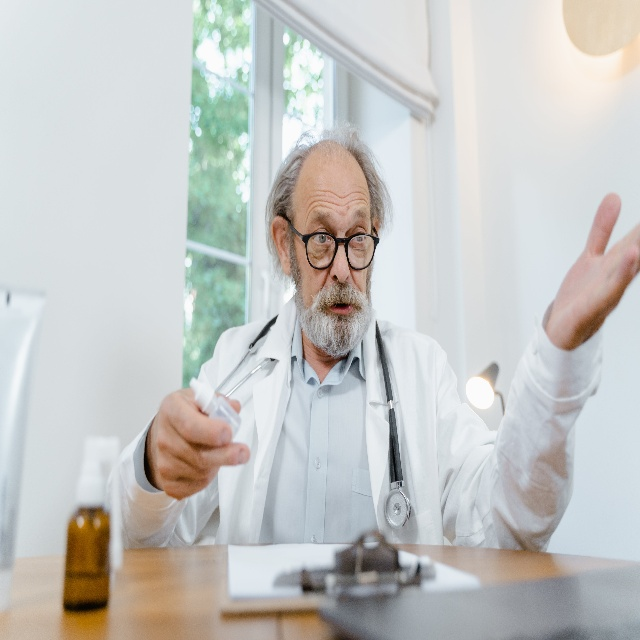Gafas: (279, 208, 380, 274)
Sin_guantes: (542, 190, 640, 348), (146, 389, 253, 499)
